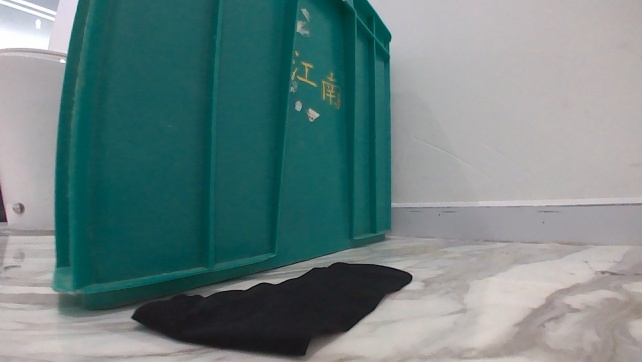socks: (128, 255, 414, 359)
toilet: (0, 45, 68, 234)
